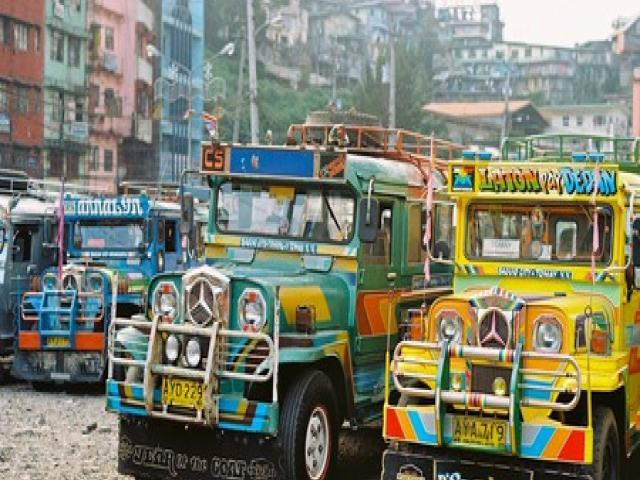jeepney: (153, 132, 399, 480), (419, 168, 639, 480), (29, 185, 177, 396)
